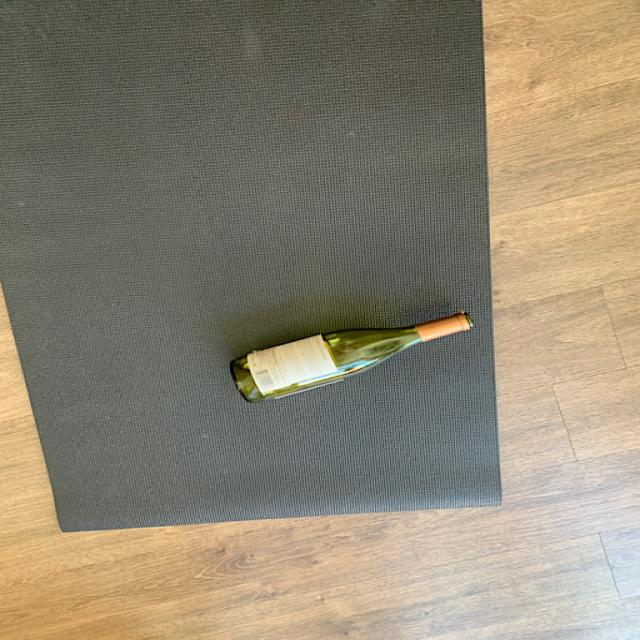Glass Bottle: (224, 300, 478, 410)
